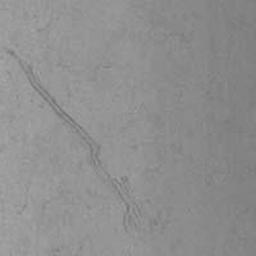Water spot: (5, 46, 166, 243)
